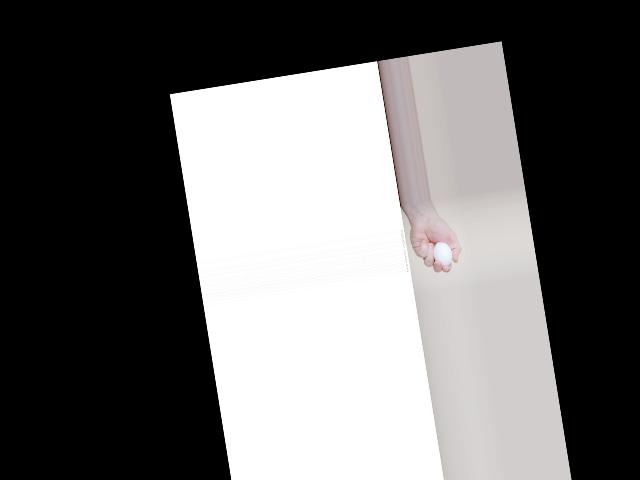egg: (431, 239, 453, 266)
